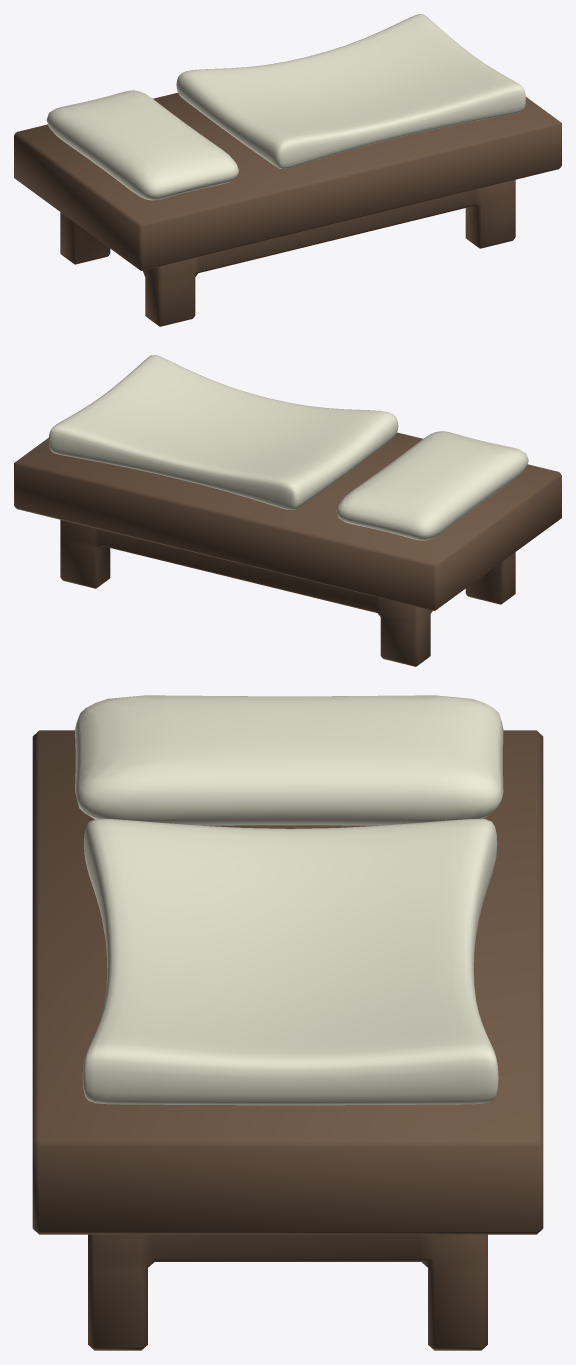
Rendered from Bed.glb.
The picture shows the model from 3 angles, top to bottom: view 1: azimuth 30°, elevation 25°; view 2: azimuth 150°, elevation 25°; view 3: azimuth 270°, elevation 25°; orthographic projection. The views are drawn at different scales.
Visible parts, largest first — view 1: Cube.008; view 2: Cube.008; view 3: Cube.008.
Boxes of the visible parts, bbox=[...] form: Cube.008: bbox=[14, 14, 561, 326]; Cube.008: bbox=[14, 355, 561, 666]; Cube.008: bbox=[32, 695, 543, 1350].
Bounding box in the file's own units: 3 × 1.05 × 1.57.
